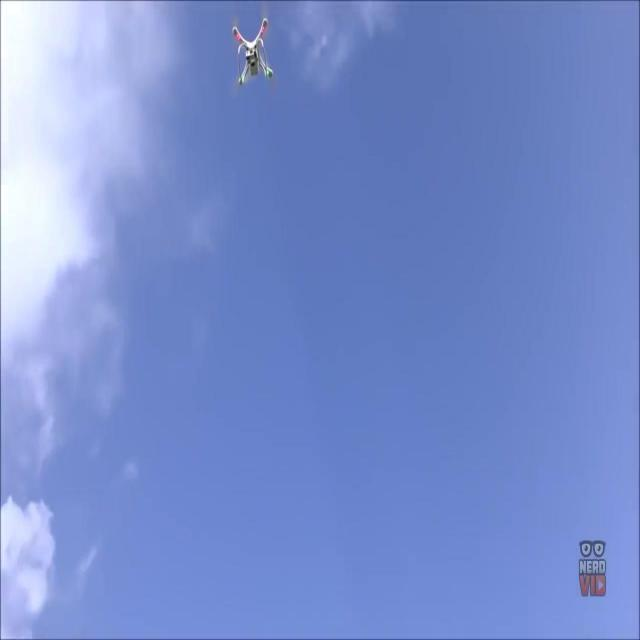UAV: (233, 18, 273, 86)
